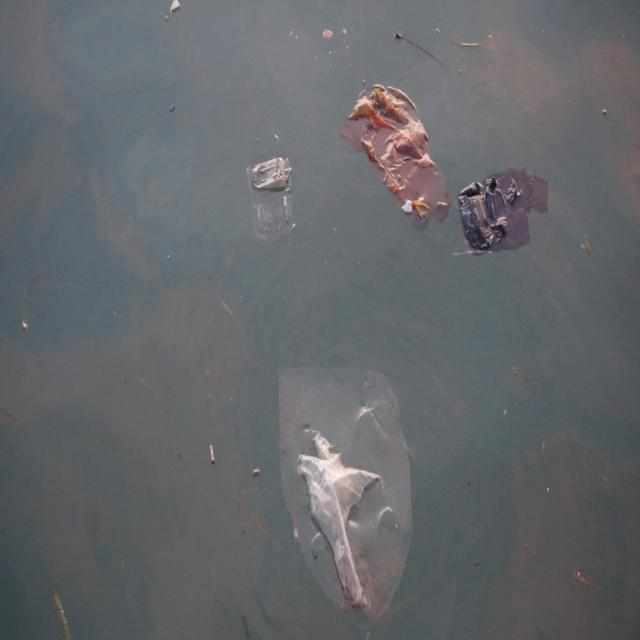Bungkus Makanan: (243, 150, 299, 240)
Kantong Plastik: (274, 360, 415, 627), (340, 79, 454, 229), (456, 164, 552, 262)
